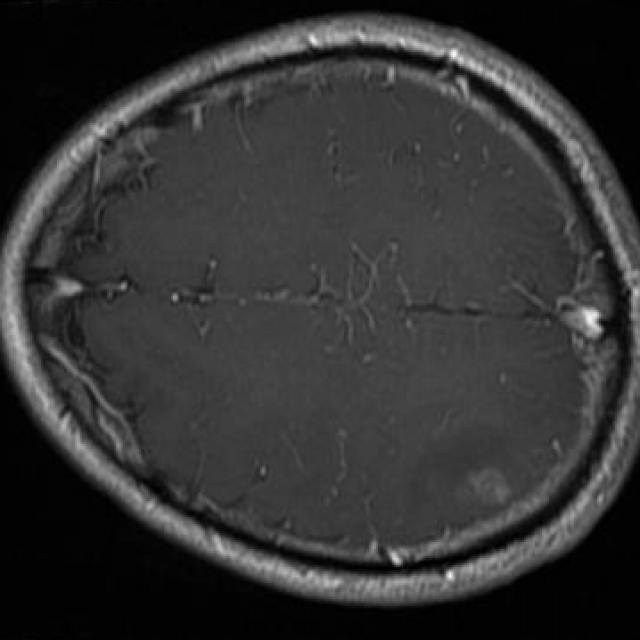glioma: (406, 433, 526, 537)
